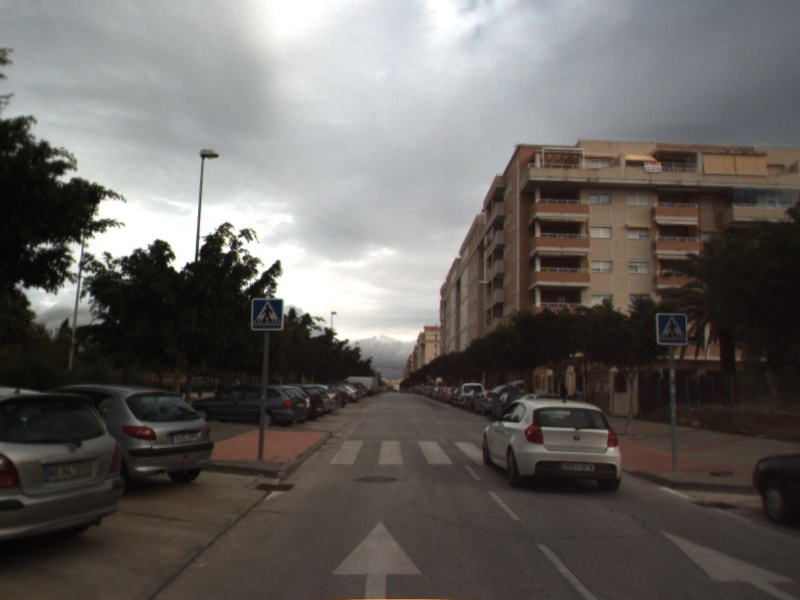STRAIGHT: (658, 528, 800, 600), (330, 519, 424, 600)
